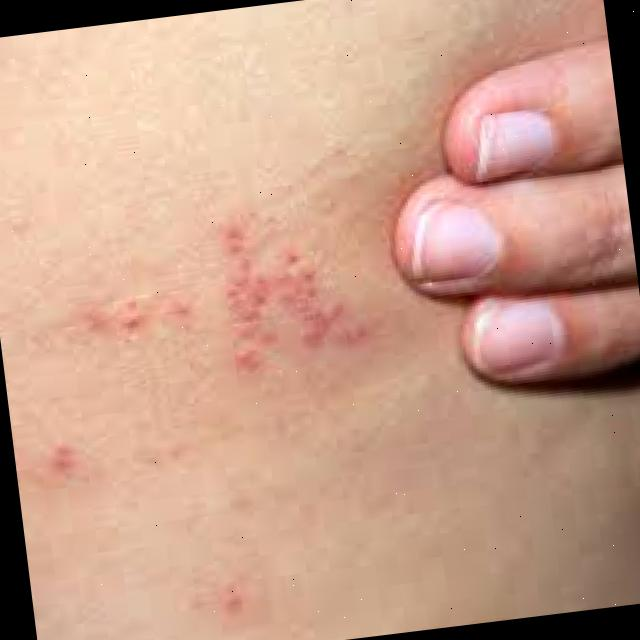kan emici bocekler: (208, 218, 362, 394), (76, 279, 192, 342), (45, 445, 84, 479), (221, 573, 251, 610)
